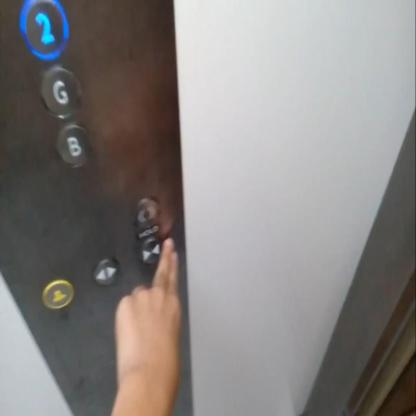2: (19, 0, 68, 60)
B: (56, 122, 90, 169)
G: (38, 65, 80, 119)
alarm: (41, 278, 74, 310)
close: (138, 235, 162, 268)
open: (130, 194, 160, 230), (93, 258, 118, 286)
